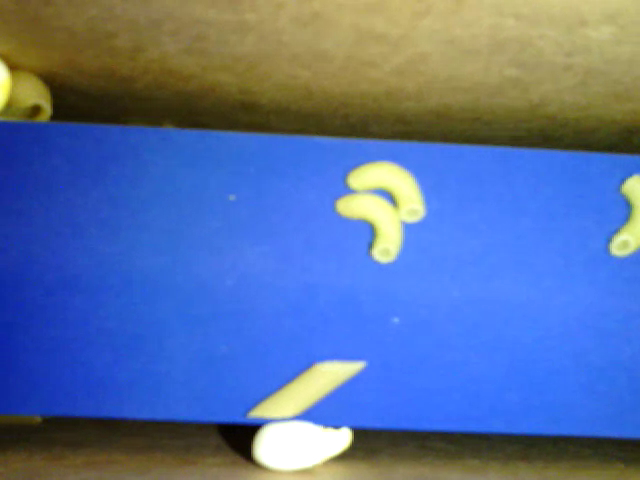elbow: (334, 189, 407, 267), (347, 158, 427, 224), (611, 172, 637, 257)
penne: (246, 359, 368, 421)
shell: (4, 68, 51, 125), (305, 160, 306, 161)
